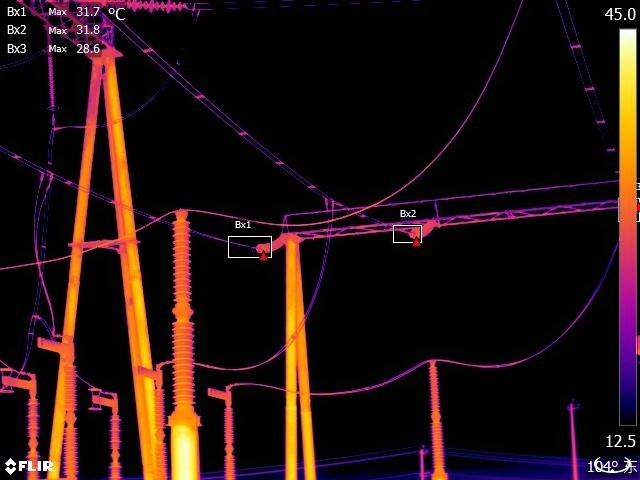clamp: (32, 162, 62, 188), (43, 119, 67, 137)
insulator: (41, 19, 62, 107), (72, 1, 195, 13), (253, 230, 290, 256), (407, 214, 438, 242)
post insulator: (169, 211, 204, 427), (427, 362, 450, 480), (62, 361, 81, 480), (21, 394, 42, 480), (220, 403, 241, 480), (107, 411, 127, 480), (154, 391, 167, 480)
switch: (32, 325, 79, 360), (85, 377, 124, 418), (1, 367, 40, 402), (202, 381, 236, 403), (136, 366, 165, 389)
